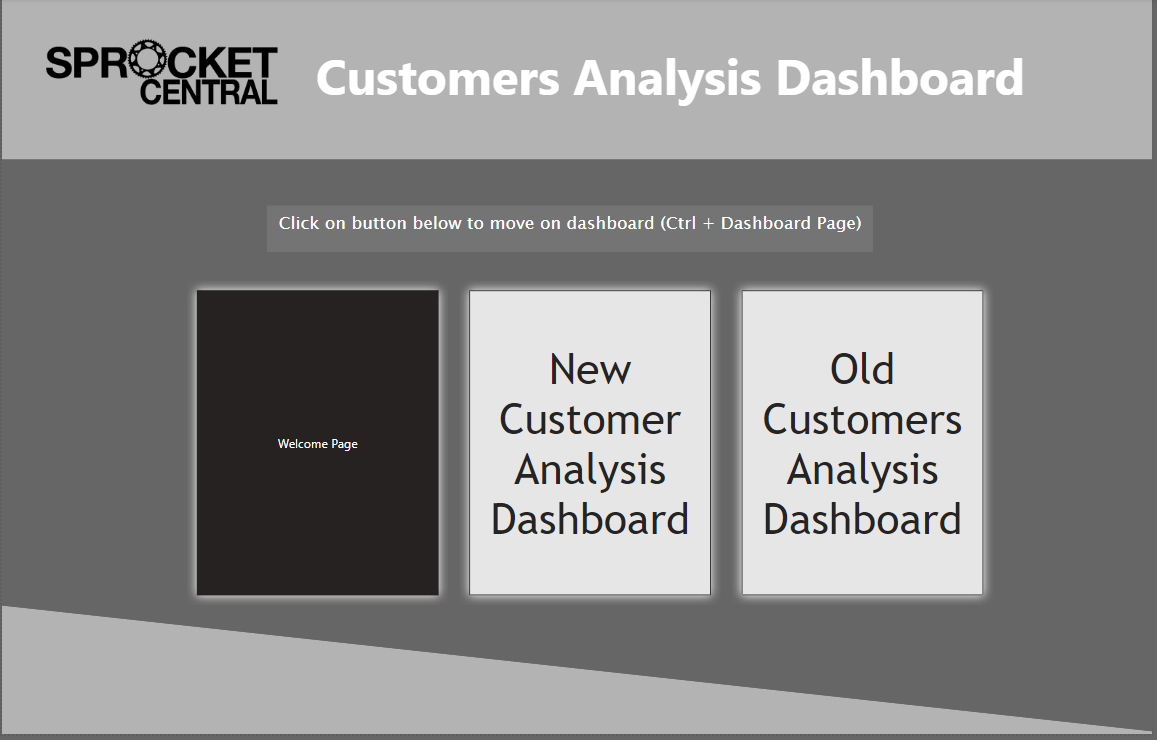

This screenshot's page, from the dashboard's own definition file:
{"tool":"powerbi","page":{"name":"Welcome Page","canvas":[1250,800],"ordinal":0},"visuals":[{"type":"shape","box":[0,660,1280,140],"z":0},{"type":"shape","box":[0,0,1280,175],"z":1000},{"type":"pageNavigator","box":[248.3,306.7,876.7,353.3],"z":2000},{"type":"textbox","box":[288.3,43.3,876.7,90],"z":3000},{"type":"image","box":[41.7,8.3,270,161.7],"z":4000},{"type":"textbox","box":[357.1,244.3,658.6,50],"z":5000}]}

Visuals, with their boxes in screenshot pixels (x1, y1, x2, y2), scaled from the page's 1250x800 canvas onto the 1157x740 screenshot:
shape: [x1=0, y1=610, x2=1156, y2=739]
shape: [x1=0, y1=0, x2=1156, y2=162]
pageNavigator: [x1=230, y1=284, x2=1041, y2=610]
textbox: [x1=267, y1=40, x2=1078, y2=123]
image: [x1=39, y1=8, x2=289, y2=157]
textbox: [x1=331, y1=226, x2=940, y2=272]
